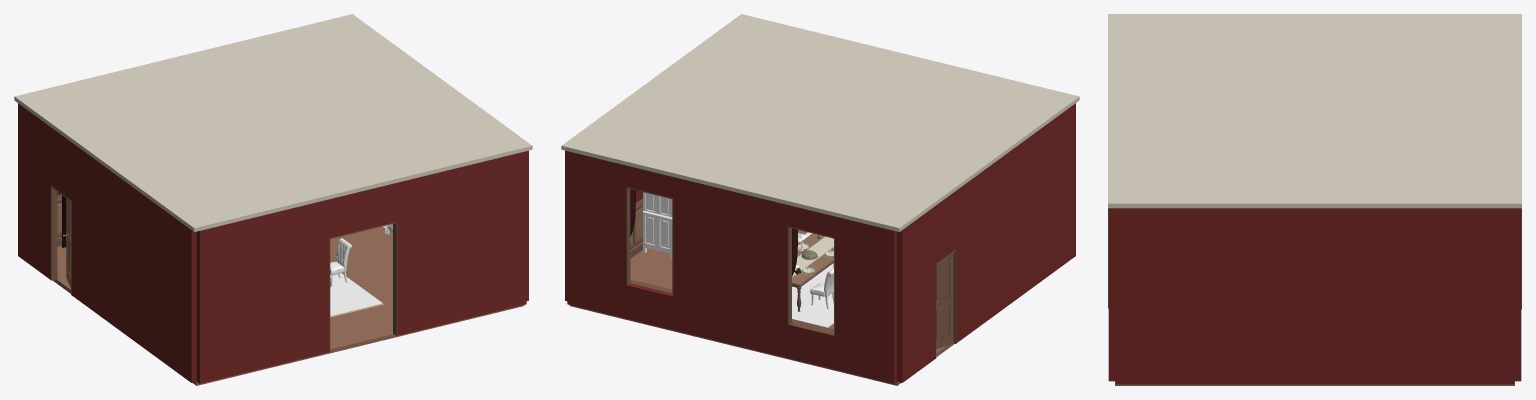
The model's file is dining.glb.
3 renders of one model, left to right at view 1: azimuth 30°, elevation 25°; view 2: azimuth 150°, elevation 25°; view 3: azimuth 270°, elevation 25°, orthographic. The views are drawn at different scales.
Parts seen in each view (by area): view 1: ROOM__dining, dining_chair_02; view 2: ROOM__dining, GothicCabinet_01_cabinet, LEAF__pantry_swing__0, dining_chair_02; view 3: ROOM__dining.
Boxes of the visible parts, left/top/right/bottom form: ROOM__dining: left=14, top=14, right=532, bottom=385; dining_chair_02: left=330, top=238, right=352, bottom=286; ROOM__dining: left=561, top=14, right=1079, bottom=385; GothicCabinet_01_cabinet: left=642, top=192, right=672, bottom=259; LEAF__pantry_swing__0: left=936, top=252, right=953, bottom=349; dining_chair_02: left=810, top=268, right=833, bottom=308; ROOM__dining: left=1108, top=14, right=1521, bottom=385.
Size of the model in its own units: 9 by 4.14 by 8.3.
